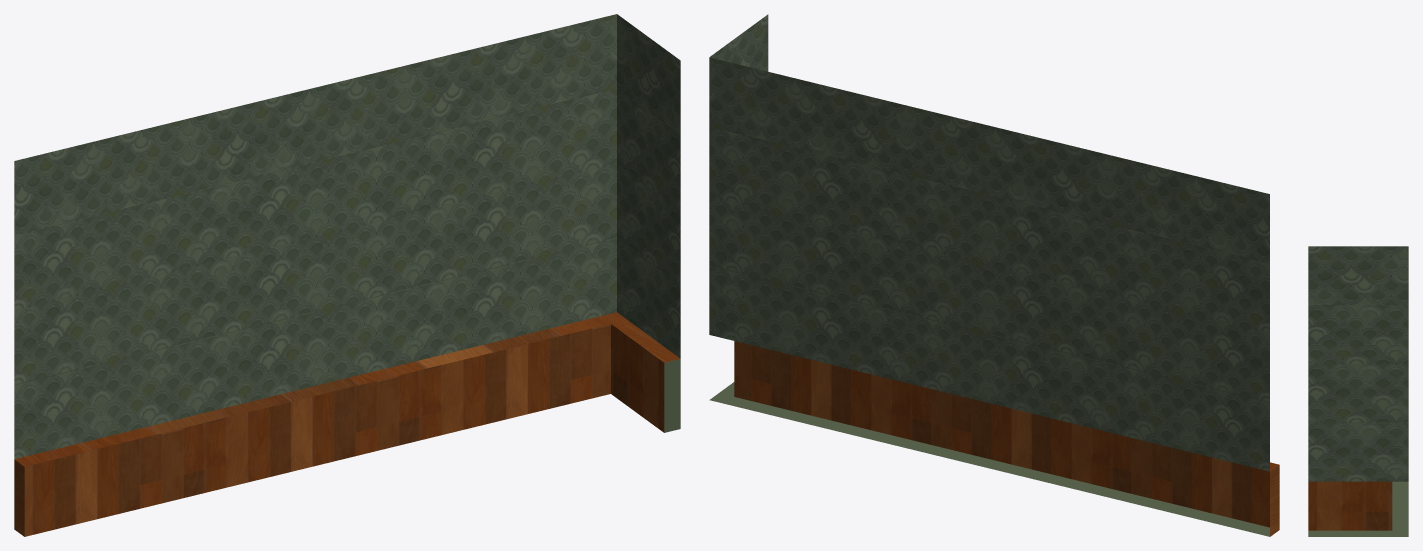
File: DiningRoomLeftWall.fbx
The picture shows the model from 3 angles, left to right: view 1: azimuth 30°, elevation 25°; view 2: azimuth 150°, elevation 25°; view 3: azimuth 270°, elevation 25°; orthographic projection. The views are drawn at different scales.
Parts seen in each view (by area): view 1: Plane.017; view 2: Plane.017; view 3: Plane.017.
Boxes of the visible parts, left/top/right/bottom form: Plane.017: left=14, top=14, right=680, bottom=536; Plane.017: left=709, top=14, right=1279, bottom=536; Plane.017: left=1308, top=246, right=1408, bottom=536.
Bounding box in the file's own units: 4573 × 2670 × 836.
